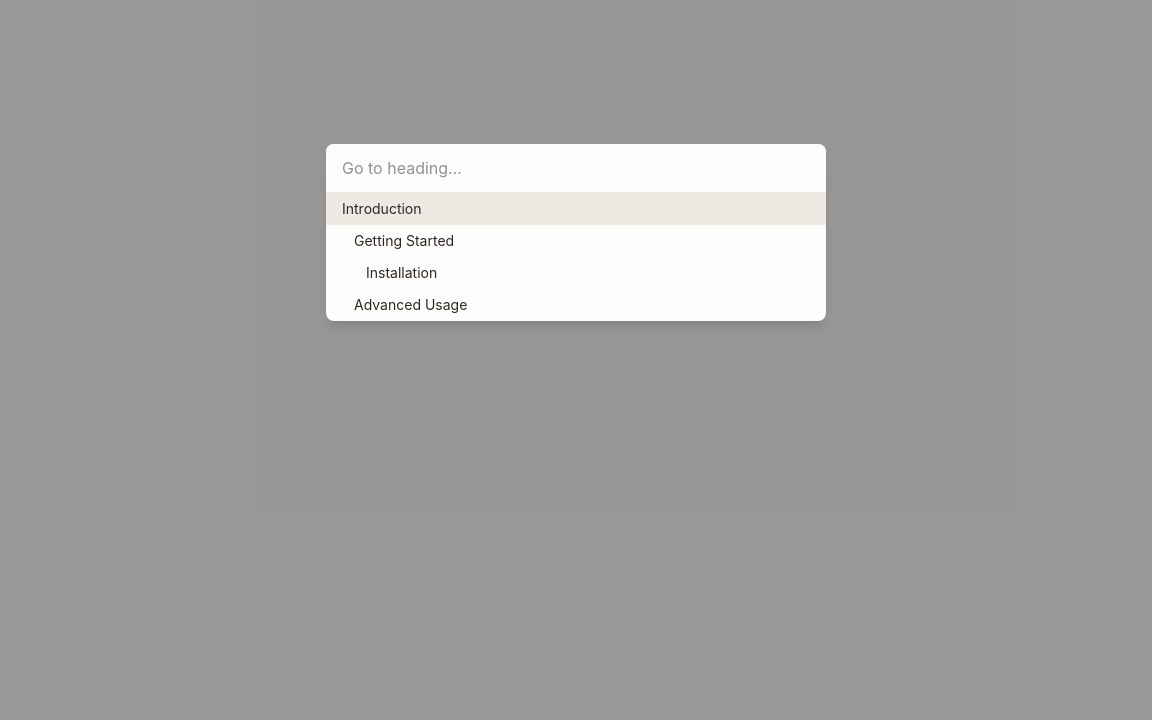
it: HeadingQuickSwitcher › shows 'No matches' when filter eliminates all
Type "zzzzz" into the field with test id "quick-switcher-input".
click(576, 168); type("zzzzz")  # box [326,144,826,193]
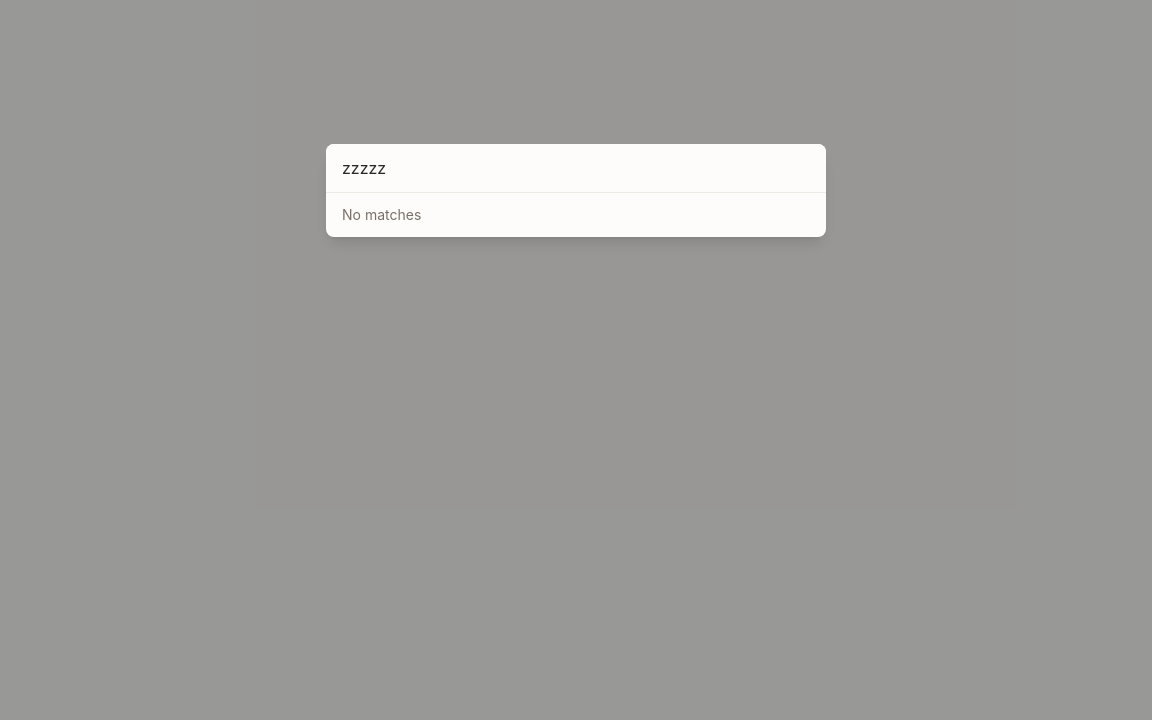
Check: the text "No matches" is shown, box [342,206,421,223]
